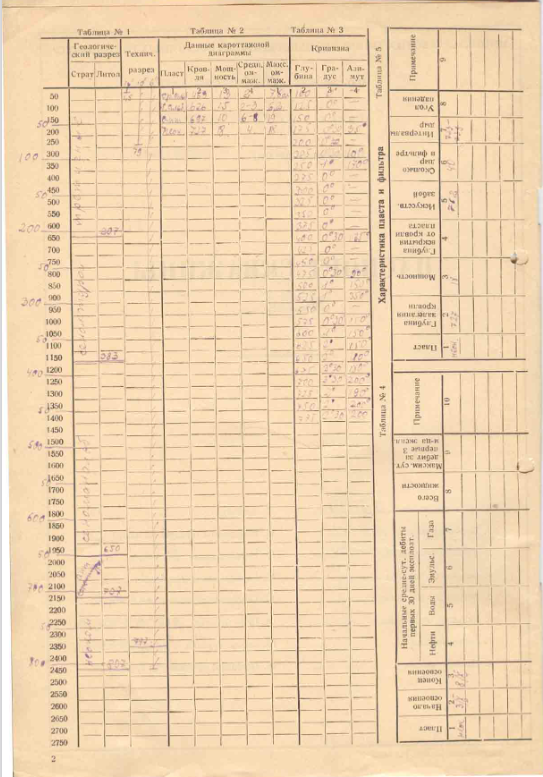Bordered: (287, 36, 373, 438)
